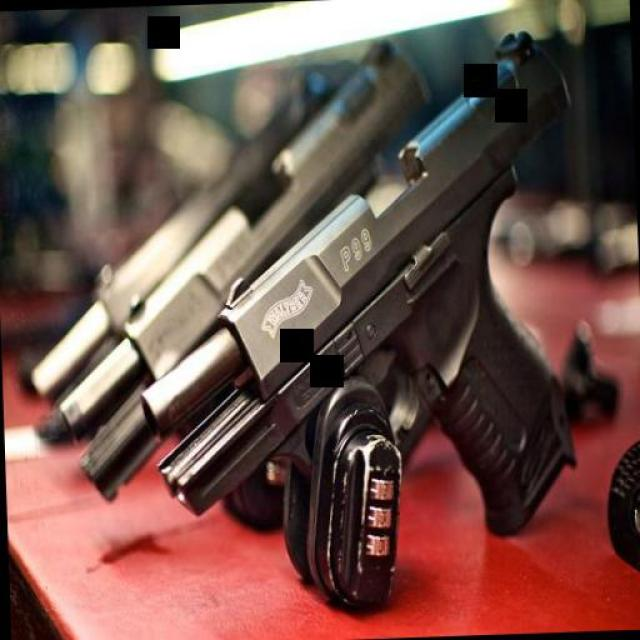gun: (60, 20, 598, 576)
